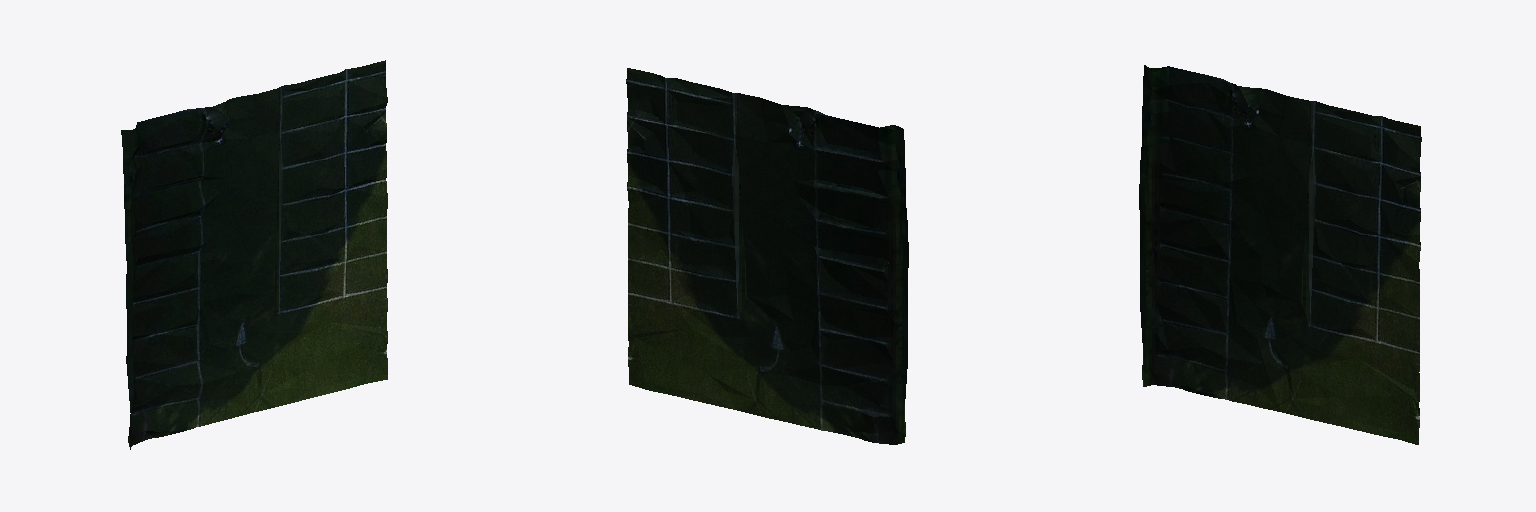
The picture shows the model from 3 angles: view 1: azimuth 30°, elevation 25°; view 2: azimuth 150°, elevation 25°; view 3: azimuth 330°, elevation 25°; orthographic projection.
Visible parts, largest first — view 1: obj_0; view 2: obj_0; view 3: obj_0.
Boxes of the visible parts, <box> form: obj_0: <box>121,60,387,449</box>; obj_0: <box>626,68,908,444</box>; obj_0: <box>1139,65,1421,444</box>.
Size of the model in its own units: 20.1 by 22.53 by 1.57.
Materials: 1 (1 with a texture image).